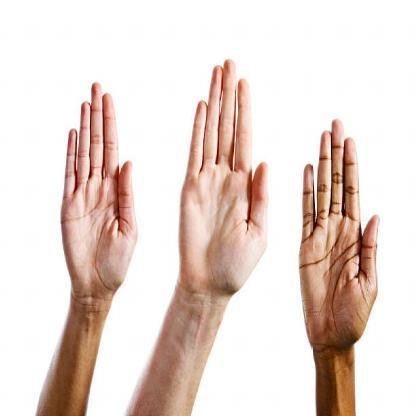stop: (178, 56, 271, 296), (300, 114, 380, 350), (59, 78, 140, 298)
